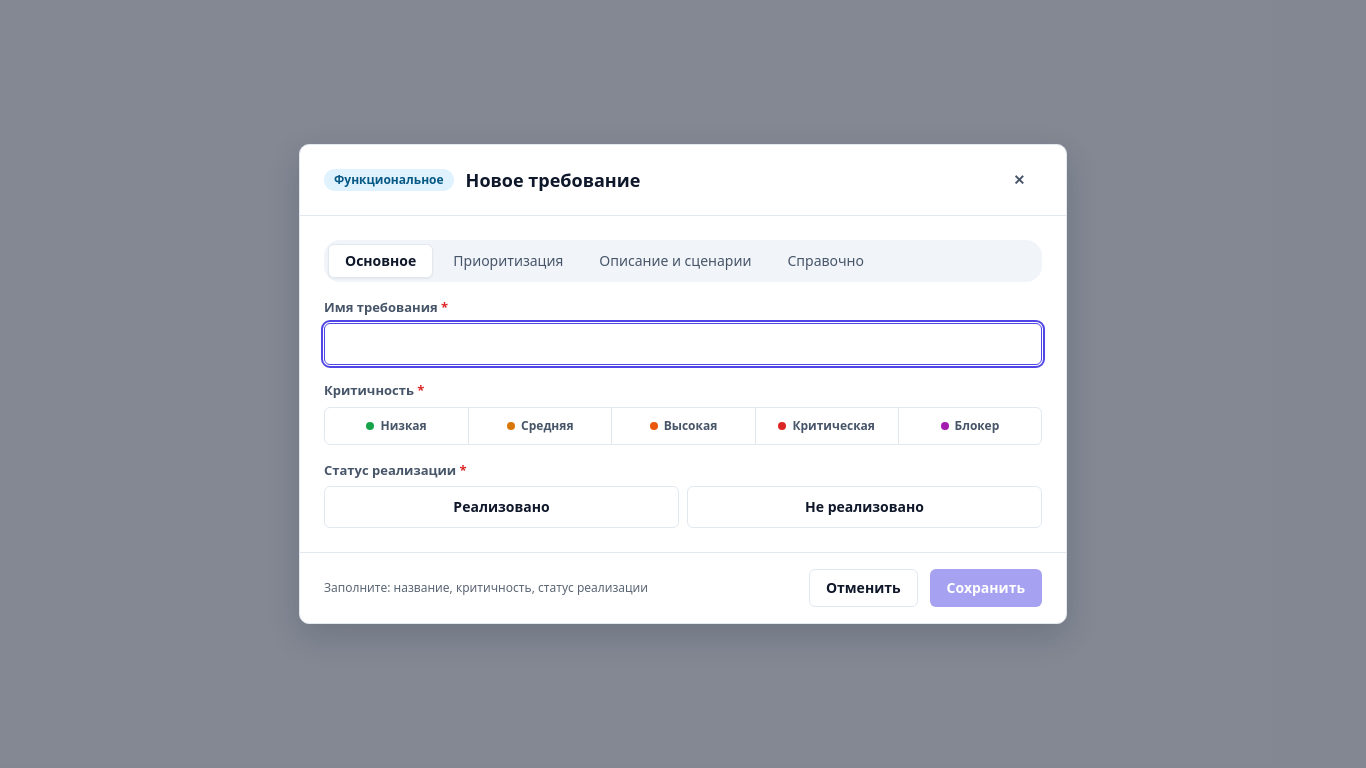
Test: RequirementModal (T-1106, FR-6) › FR-21 · noDefaultCriticality=true (Save button behaviour) › quarter/year panel disappears when switching from "Не реализовано" to "Реализовано"
Step 1. Type "Дочернее требование" into the field with test id "req-name" → (683, 344), box [324,323,1042,365]
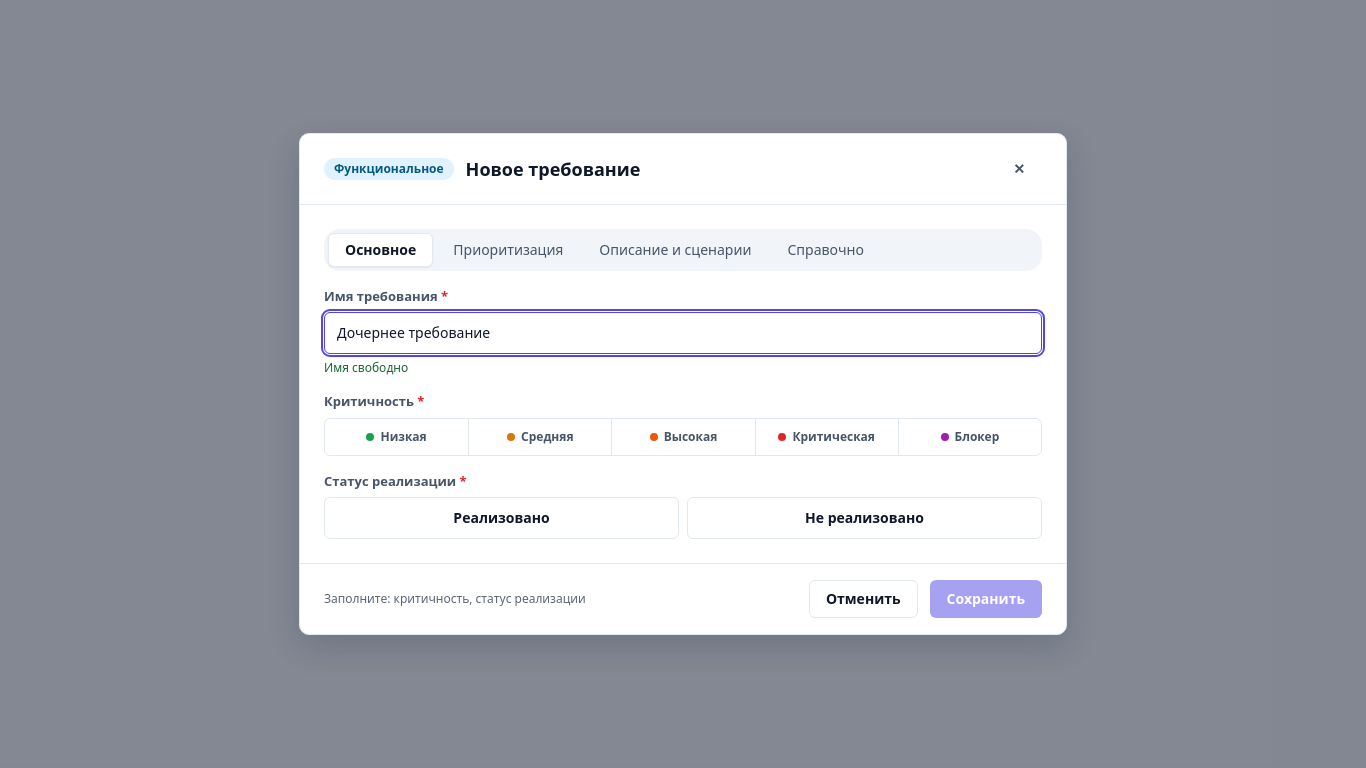
Step 2. Click the button with test id "req-implemented-no" → click(864, 518), box [687,497,1042,539]
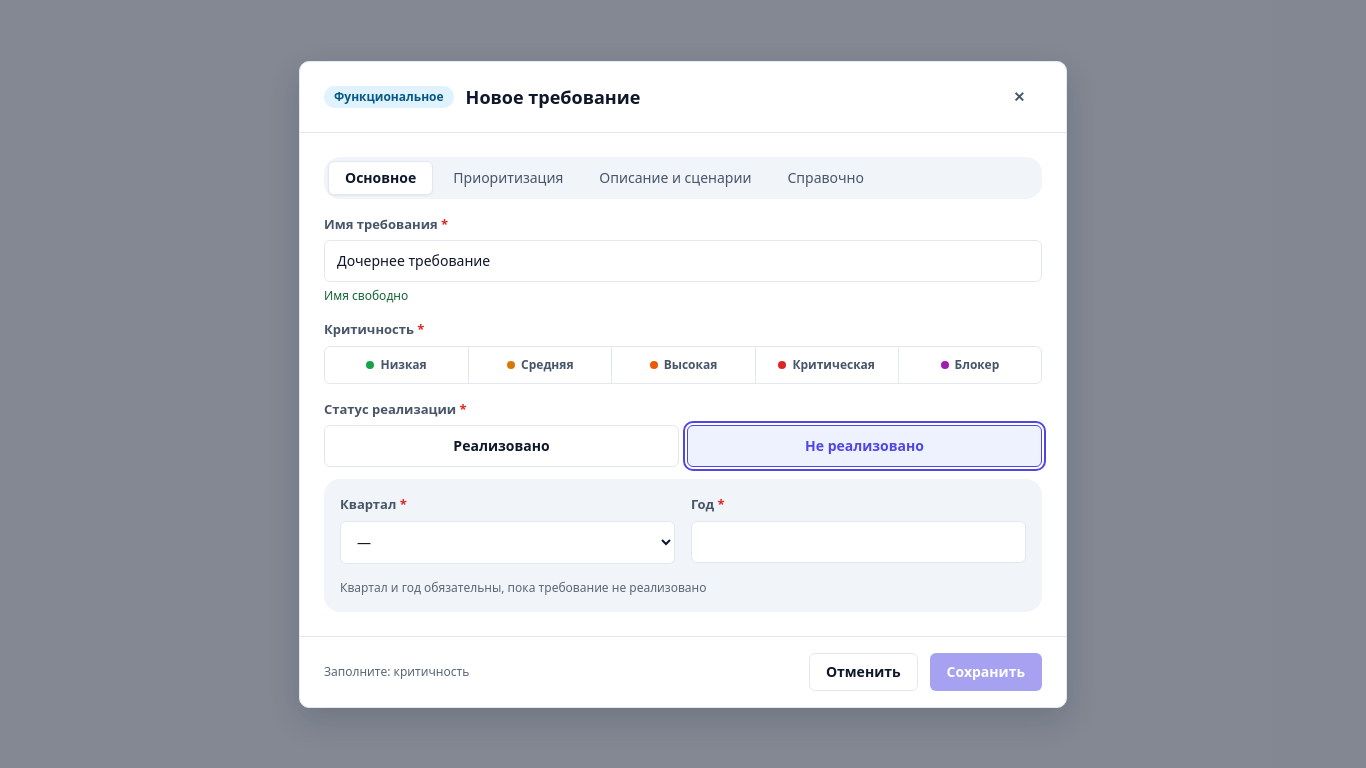
Check: the element with test id "req-target" is shown, box [324,479,1042,612]
Step 3. Click the button with test id "req-implemented-yes" → click(502, 446), box [324,425,679,467]
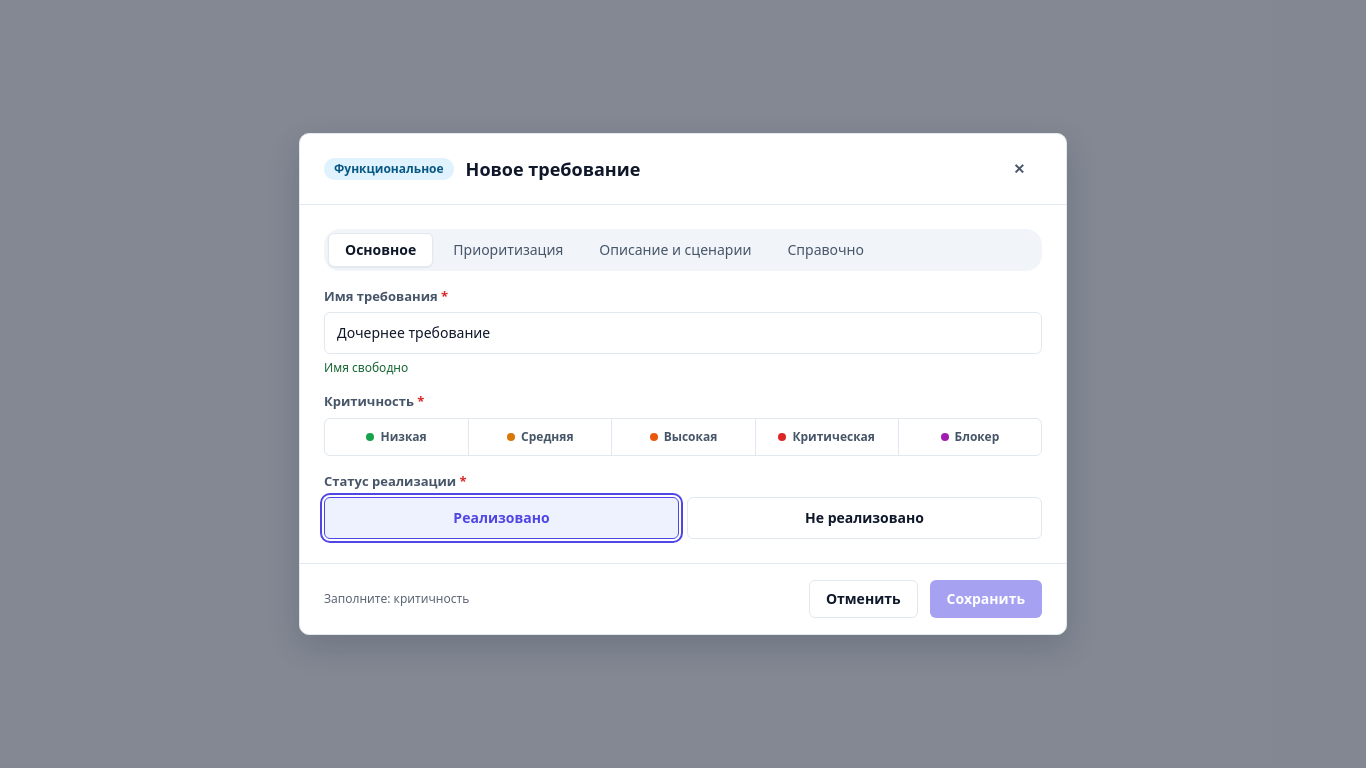
Check: the element with test id "req-target" is gone
